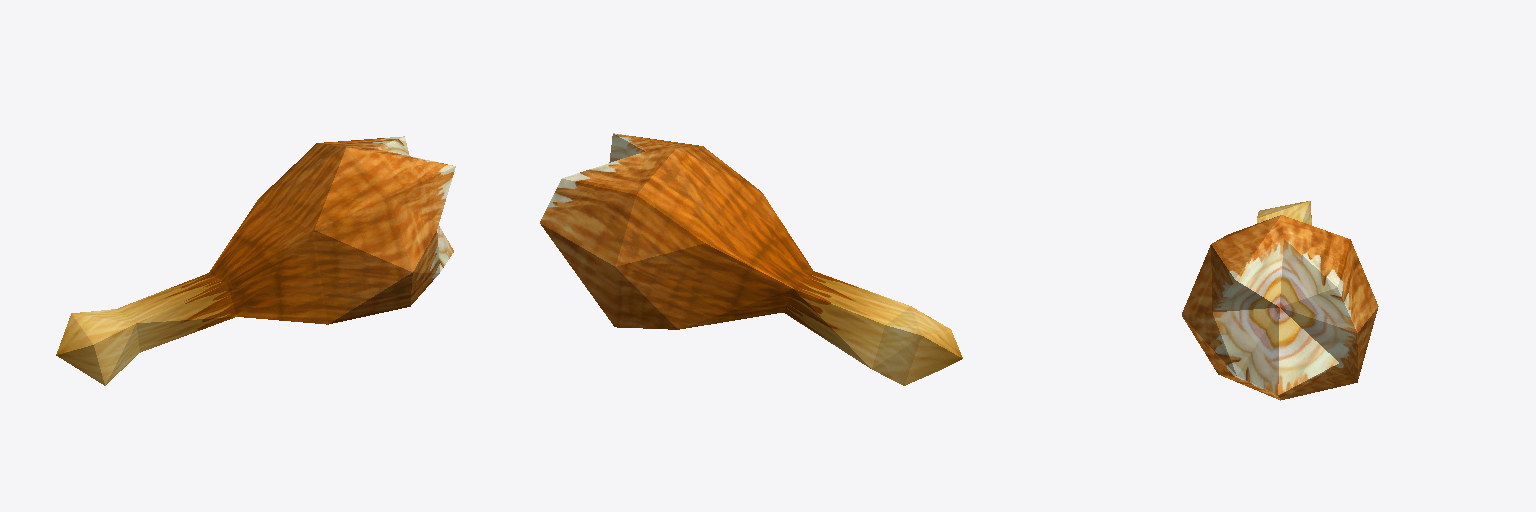
The picture shows the model from 3 angles: view 1: azimuth 30°, elevation 25°; view 2: azimuth 150°, elevation 25°; view 3: azimuth 270°, elevation 25°; orthographic projection.
Parts seen in each view (by area): view 1: turkeyleg; view 2: turkeyleg; view 3: turkeyleg.
Part boxes in pixels (bbox=[...]): turkeyleg: bbox=[56, 136, 455, 385]; turkeyleg: bbox=[540, 133, 962, 385]; turkeyleg: bbox=[1182, 201, 1378, 400].
Size of the model in its own units: 0.8537 by 0.3537 by 0.3693.
1 materials, 1 textured.